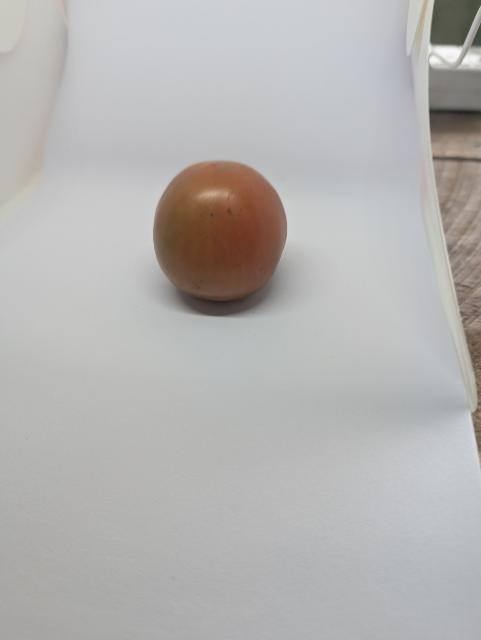turning: (138, 153, 305, 322)
